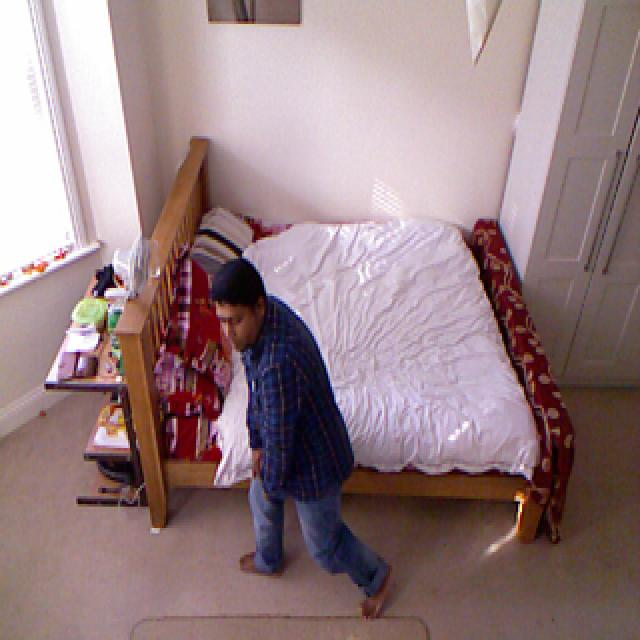standing: (212, 258, 394, 622)
